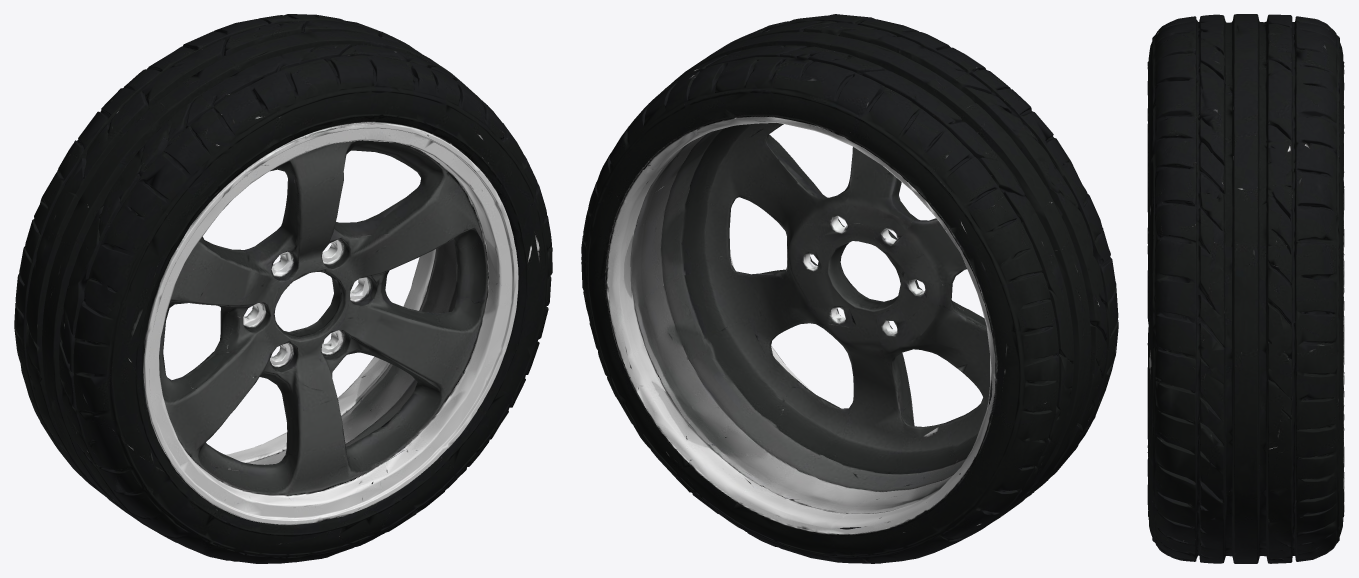
File: Meshy_AI_Black_Alloy_Wheel_Tire_20261118_texture_41459tris.glb
3 views of the same model, side by side, from view 1: azimuth 30°, elevation 25°; view 2: azimuth 150°, elevation 25°; view 3: azimuth 270°, elevation 25° (orthographic).
Parts seen in each view (by area): view 1: Mesh_0; view 2: Mesh_0; view 3: Mesh_0.
Part boxes in pixels (x1,y1,x2,y2): Mesh_0: [14, 14, 552, 563]; Mesh_0: [581, 14, 1118, 563]; Mesh_0: [1147, 14, 1344, 563].
Size of the model in its own units: 190 by 190 by 68.16.
Materials: 1 (1 with a texture image).
